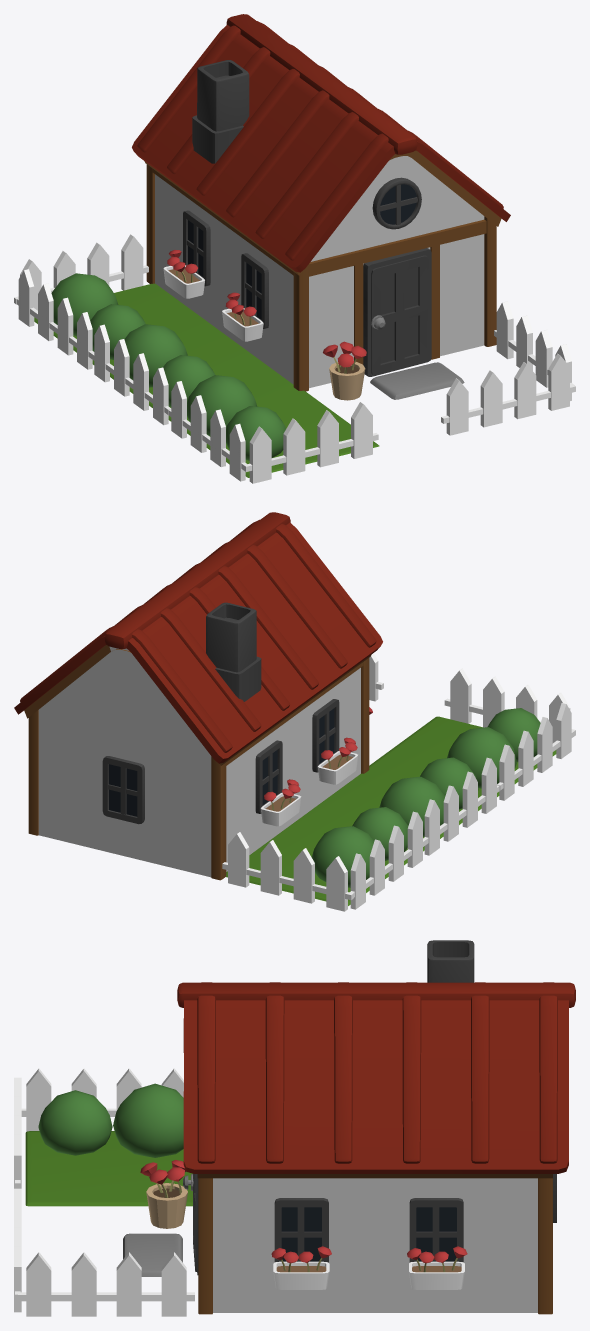
Rendered from SM_house_cute_02.fbx.
3 renders of one model, top to bottom at view 1: azimuth 30°, elevation 25°; view 2: azimuth 150°, elevation 25°; view 3: azimuth 270°, elevation 25°, orthographic. The views are drawn at different scales.
Visible parts, largest first — view 1: Box002; view 2: Box002; view 3: Box002.
Part boxes in pixels (box(x1,y1,x2,y2)): Box002: box(14, 14, 575, 483); Box002: box(14, 512, 575, 911); Box002: box(14, 940, 575, 1316).
Bounding box in the file's own units: 260 × 166 × 306.
